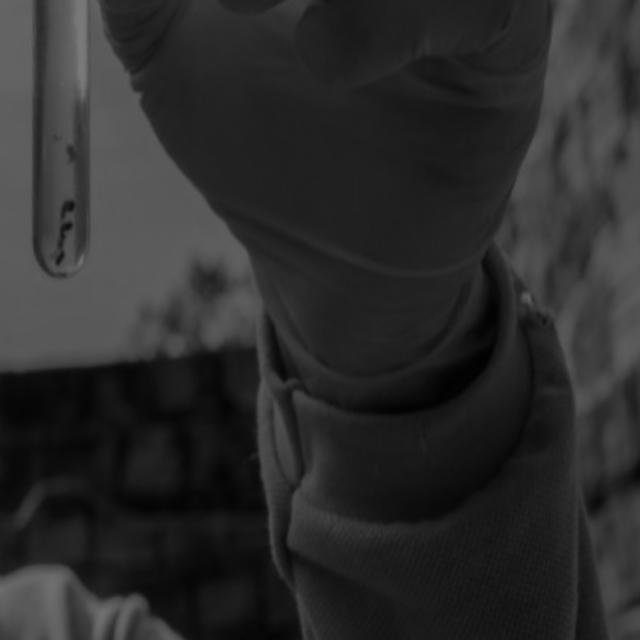larvas: (60, 221, 72, 243), (62, 202, 74, 222), (65, 145, 77, 161), (50, 250, 66, 262)
